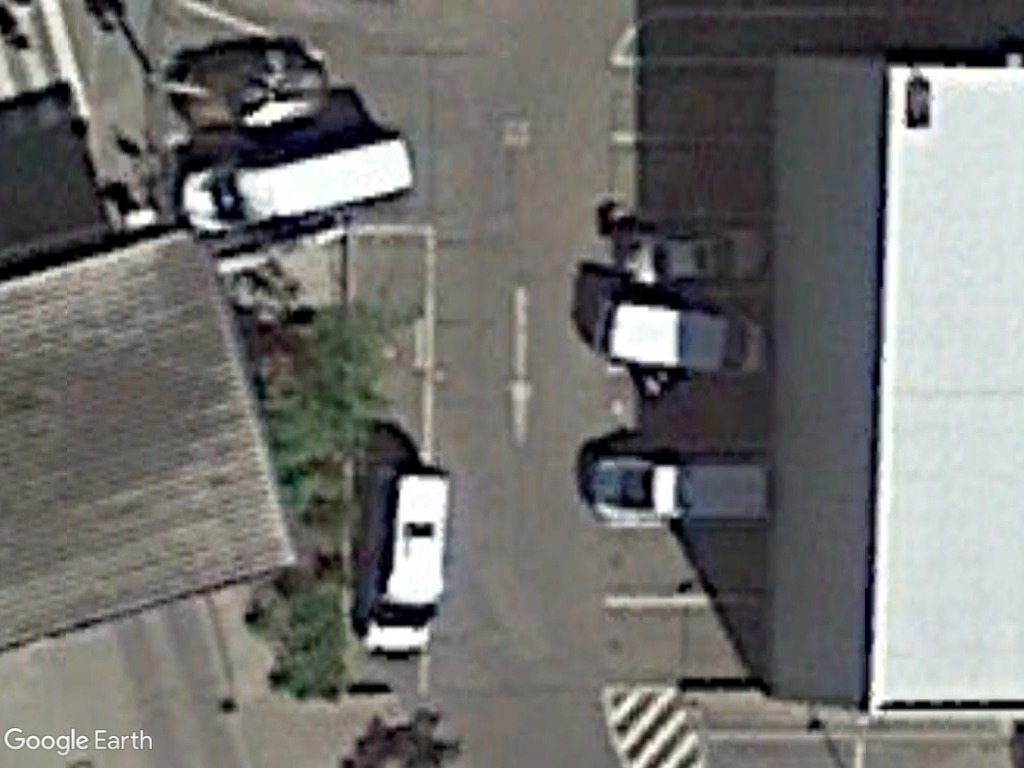van: (178, 134, 421, 238), (355, 465, 457, 660)
